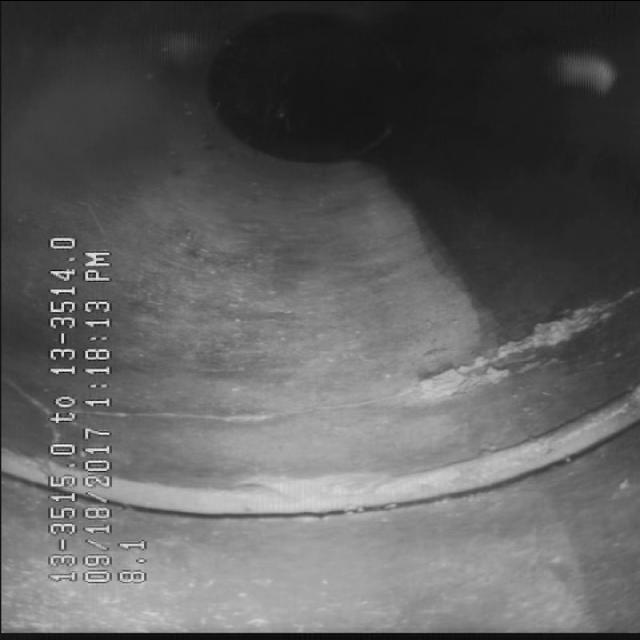Crack: (145, 342, 608, 434)
